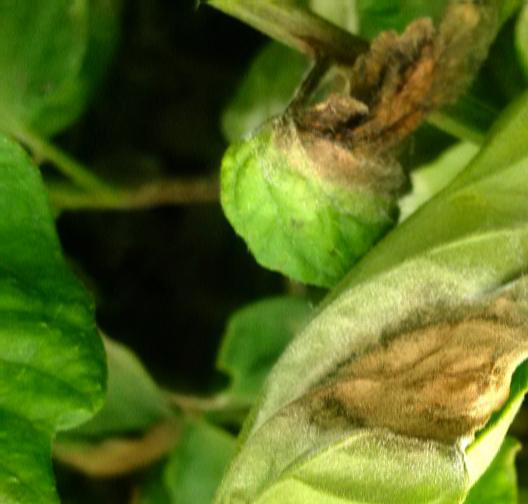Tomato leaf late blight: (59, 0, 528, 504), (203, 0, 525, 288)
